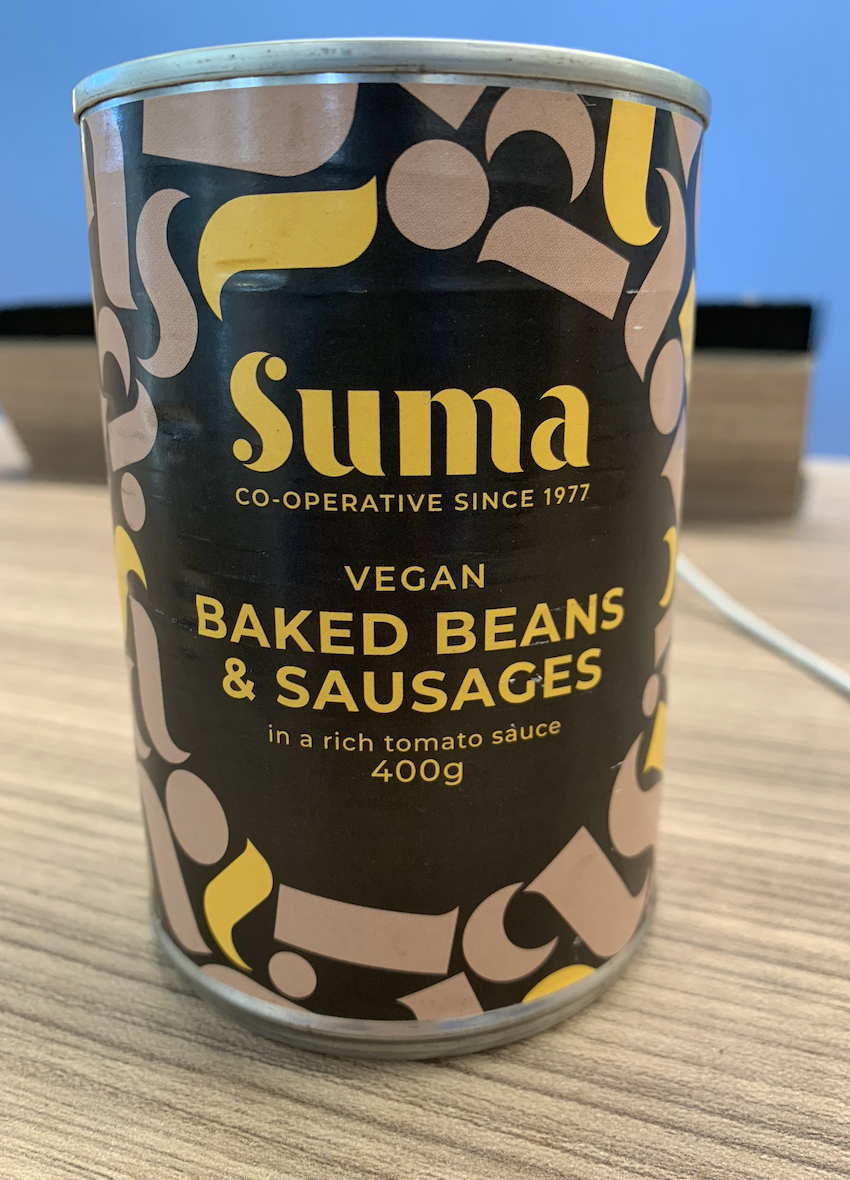Baked beans_450g: (127, 127, 687, 1001)
